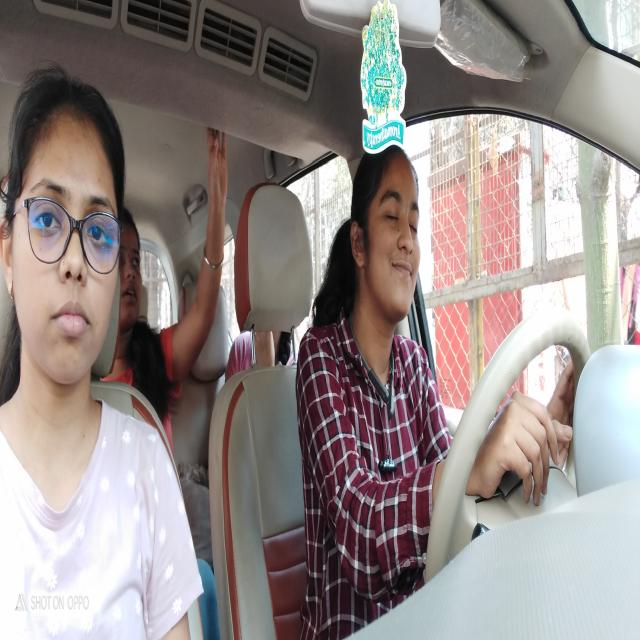drowsy: (349, 130, 424, 358)
person: (1, 54, 125, 434), (118, 194, 144, 355)
